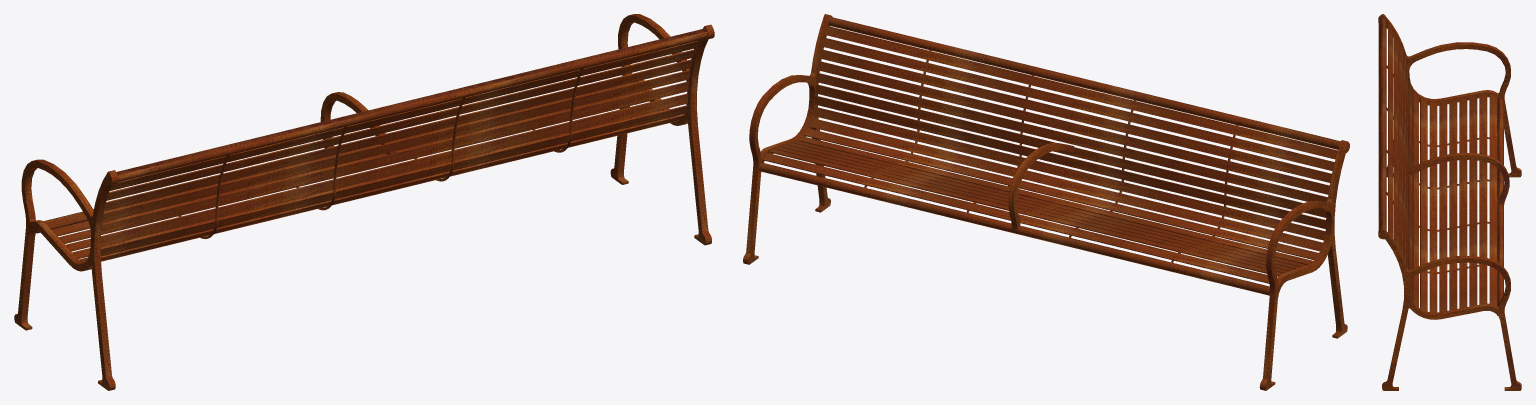
The picture shows the model from 3 angles, left to right: view 1: azimuth 30°, elevation 25°; view 2: azimuth 150°, elevation 25°; view 3: azimuth 270°, elevation 25°; orthographic projection. The views are drawn at different scales.
Parts seen in each view (by area): view 1: mesh1_mesh1-geometry, mesh12_mesh12-geometry, mesh3_mesh3-geometry, mesh6_mesh6-geometry, mesh10_mesh10-geometry; view 2: mesh1_mesh1-geometry, mesh3_mesh3-geometry, mesh12_mesh12-geometry, mesh10_mesh10-geometry; view 3: mesh1_mesh1-geometry, mesh12_mesh12-geometry, mesh3_mesh3-geometry, mesh10_mesh10-geometry, mesh6_mesh6-geometry.
Boxes of the visible parts, bbox=[...] form: mesh1_mesh1-geometry: bbox=[43, 41, 697, 262]; mesh12_mesh12-geometry: bbox=[14, 14, 714, 390]; mesh3_mesh3-geometry: bbox=[36, 28, 707, 233]; mesh6_mesh6-geometry: bbox=[178, 68, 583, 239]; mesh10_mesh10-geometry: bbox=[320, 92, 396, 154]; mesh1_mesh1-geometry: bbox=[763, 26, 1337, 283]; mesh3_mesh3-geometry: bbox=[759, 17, 1340, 295]; mesh12_mesh12-geometry: bbox=[743, 14, 1349, 390]; mesh10_mesh10-geometry: bbox=[1008, 143, 1074, 231]; mesh1_mesh1-geometry: bbox=[1388, 23, 1497, 312]; mesh12_mesh12-geometry: bbox=[1378, 14, 1521, 390]; mesh3_mesh3-geometry: bbox=[1378, 18, 1503, 315]; mesh10_mesh10-geometry: bbox=[1407, 152, 1509, 207]; mesh6_mesh6-geometry: bbox=[1386, 65, 1497, 273].
Size of the model in its own units: 0.9128 by 0.3177 by 0.2567.
